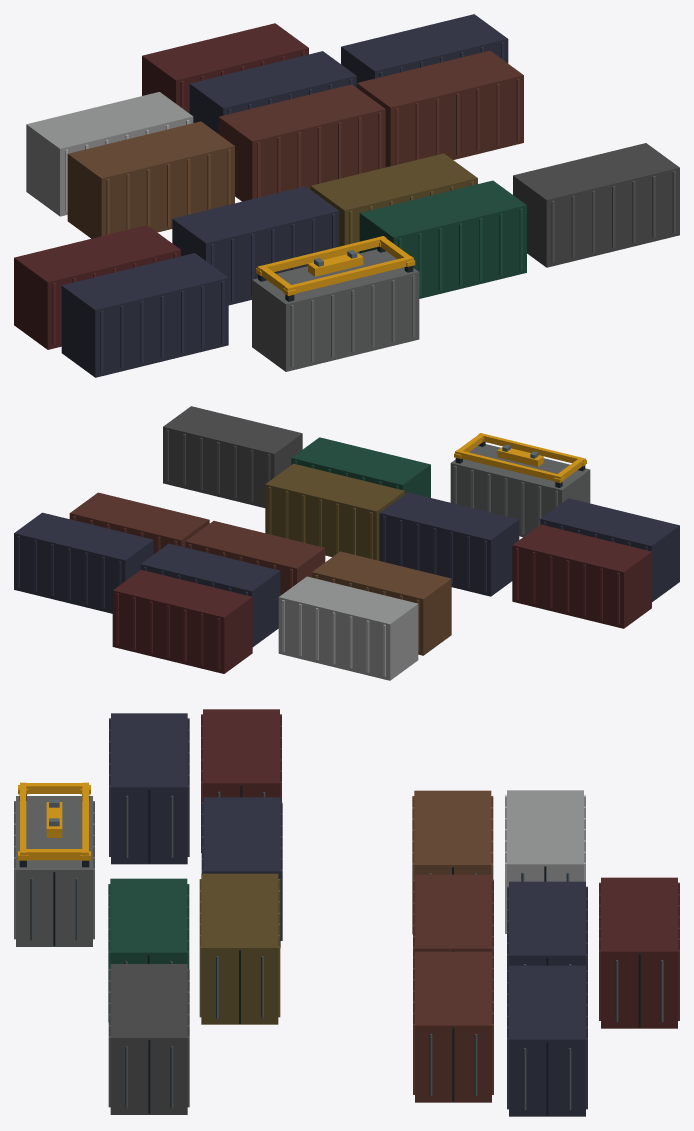
Rendered from SeaportSystem-01-Container-01-20Footer-4-07.glb.
The picture shows the model from 3 angles, top to bottom: view 1: azimuth 30°, elevation 25°; view 2: azimuth 150°, elevation 25°; view 3: azimuth 270°, elevation 25°; orthographic projection. The views are drawn at different scales.
Parts seen in each view (by area): view 1: SeaportSystem-01-Container-01-20Footer-4-07; view 2: SeaportSystem-01-Container-01-20Footer-4-07; view 3: SeaportSystem-01-Container-01-20Footer-4-07.
Boxes of the visible parts, box(x1,y1,x2,y2) form: SeaportSystem-01-Container-01-20Footer-4-07: box(14, 14, 679, 377); SeaportSystem-01-Container-01-20Footer-4-07: box(14, 406, 679, 680); SeaportSystem-01-Container-01-20Footer-4-07: box(14, 709, 679, 1116).
Bounding box in the file's own units: 59.09 × 8.25 × 50.19.
